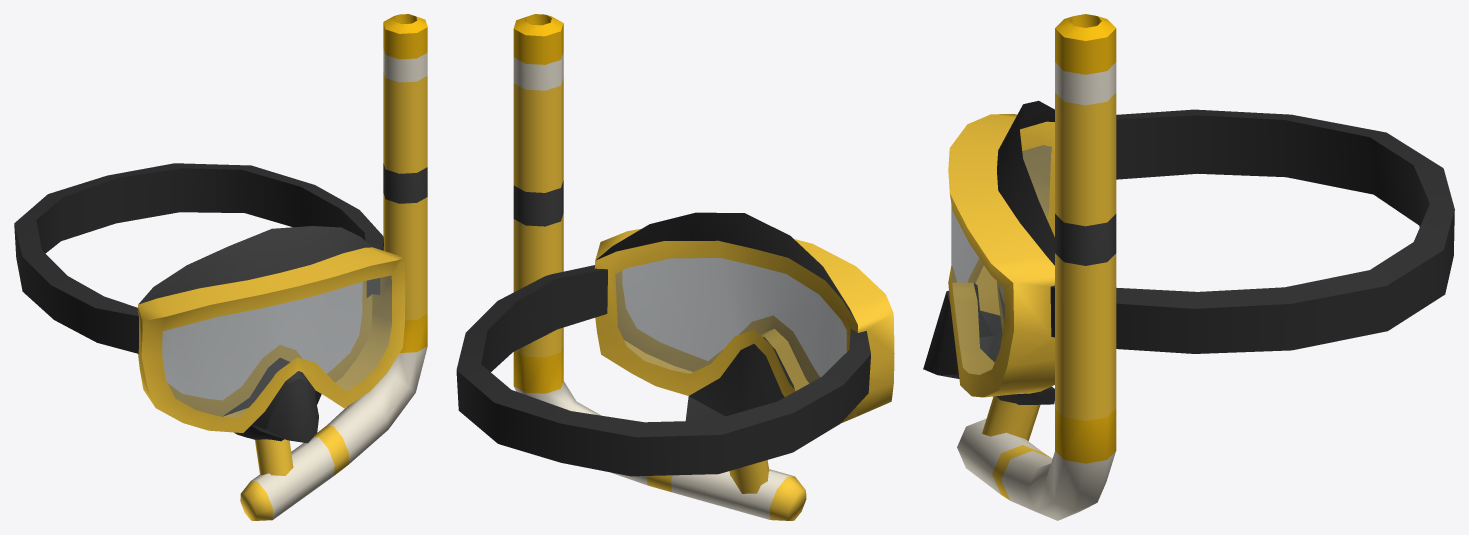
File: Eyewear_14.fbx
3 renders of one model, left to right at view 1: azimuth 30°, elevation 25°; view 2: azimuth 150°, elevation 25°; view 3: azimuth 270°, elevation 25°, orthographic. The views are drawn at different scales.
Visible parts, largest first — view 1: Eyewear_14; view 2: Eyewear_14; view 3: Eyewear_14.
Part boxes in pixels (x1,y1,x2,y2): Eyewear_14: (14, 14, 427, 520); Eyewear_14: (456, 14, 894, 520); Eyewear_14: (923, 14, 1454, 520).
Size of the model in its own units: 82.1 by 101 by 85.67.
